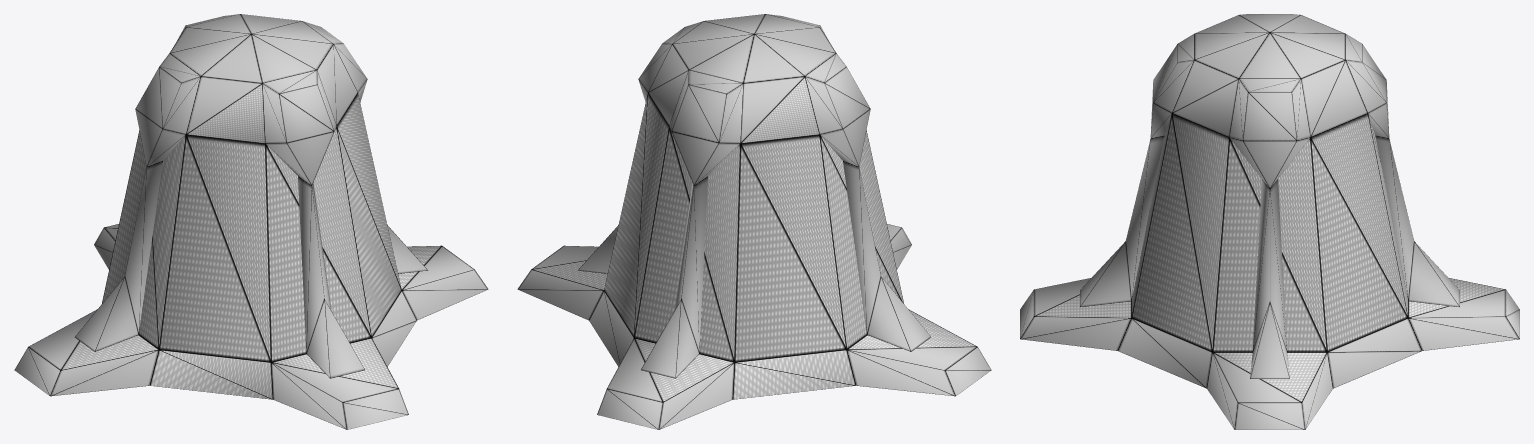
Rendered from CLEAR_SW.obj.
The picture shows the model from 3 angles, left to right: view 1: azimuth 30°, elevation 25°; view 2: azimuth 150°, elevation 25°; view 3: azimuth 270°, elevation 25°; orthographic projection.
Size of the model in its own units: 149 by 95.96 by 149.
Materials: 1 (1 with a texture image).
